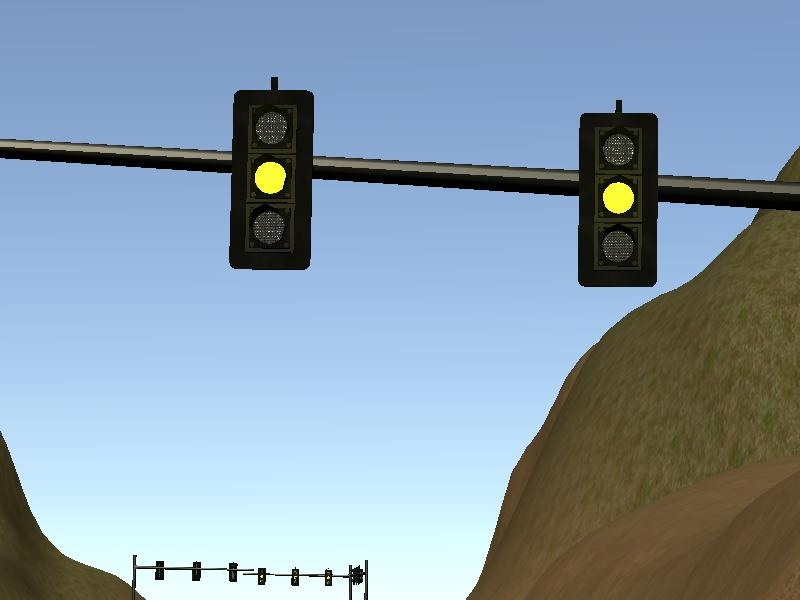yellow: (222, 70, 320, 283), (566, 94, 665, 296)
